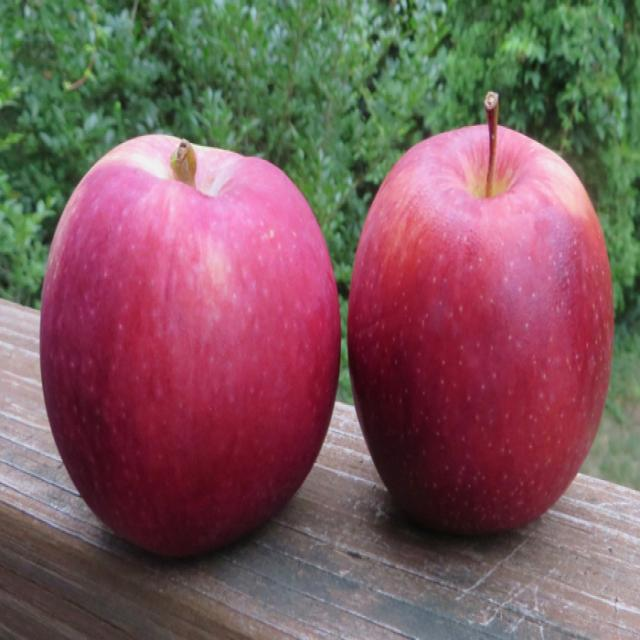Apple: (39, 129, 341, 531), (350, 90, 618, 535)
